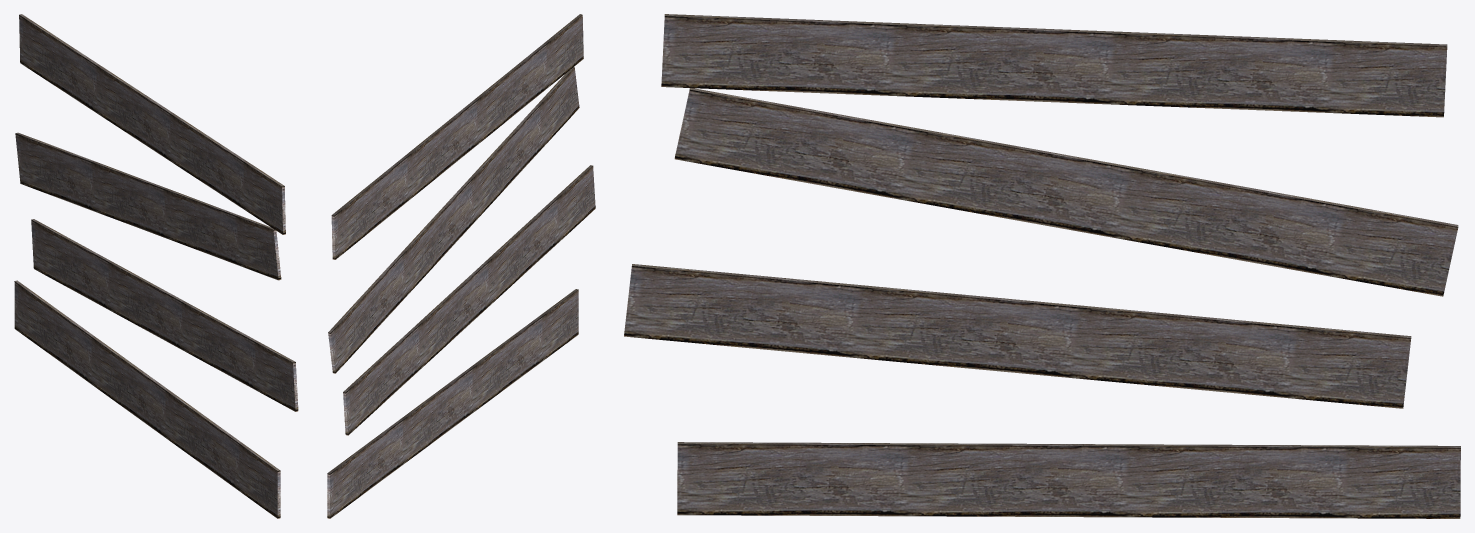
The model's file is mineplank2.fbx.
3 views of the same model, side by side, from view 1: azimuth 30°, elevation 25°; view 2: azimuth 150°, elevation 25°; view 3: azimuth 270°, elevation 25° (orthographic). The views are drawn at different scales.
Parts seen in each view (by area): view 1: mineplank2; view 2: mineplank2; view 3: mineplank2.
Boxes of the visible parts, bbox=[...] form: mineplank2: bbox=[14, 14, 298, 518]; mineplank2: bbox=[327, 14, 595, 518]; mineplank2: bbox=[624, 14, 1460, 518].
Bounding box in the file's own units: 200 × 22671 × 34188.
